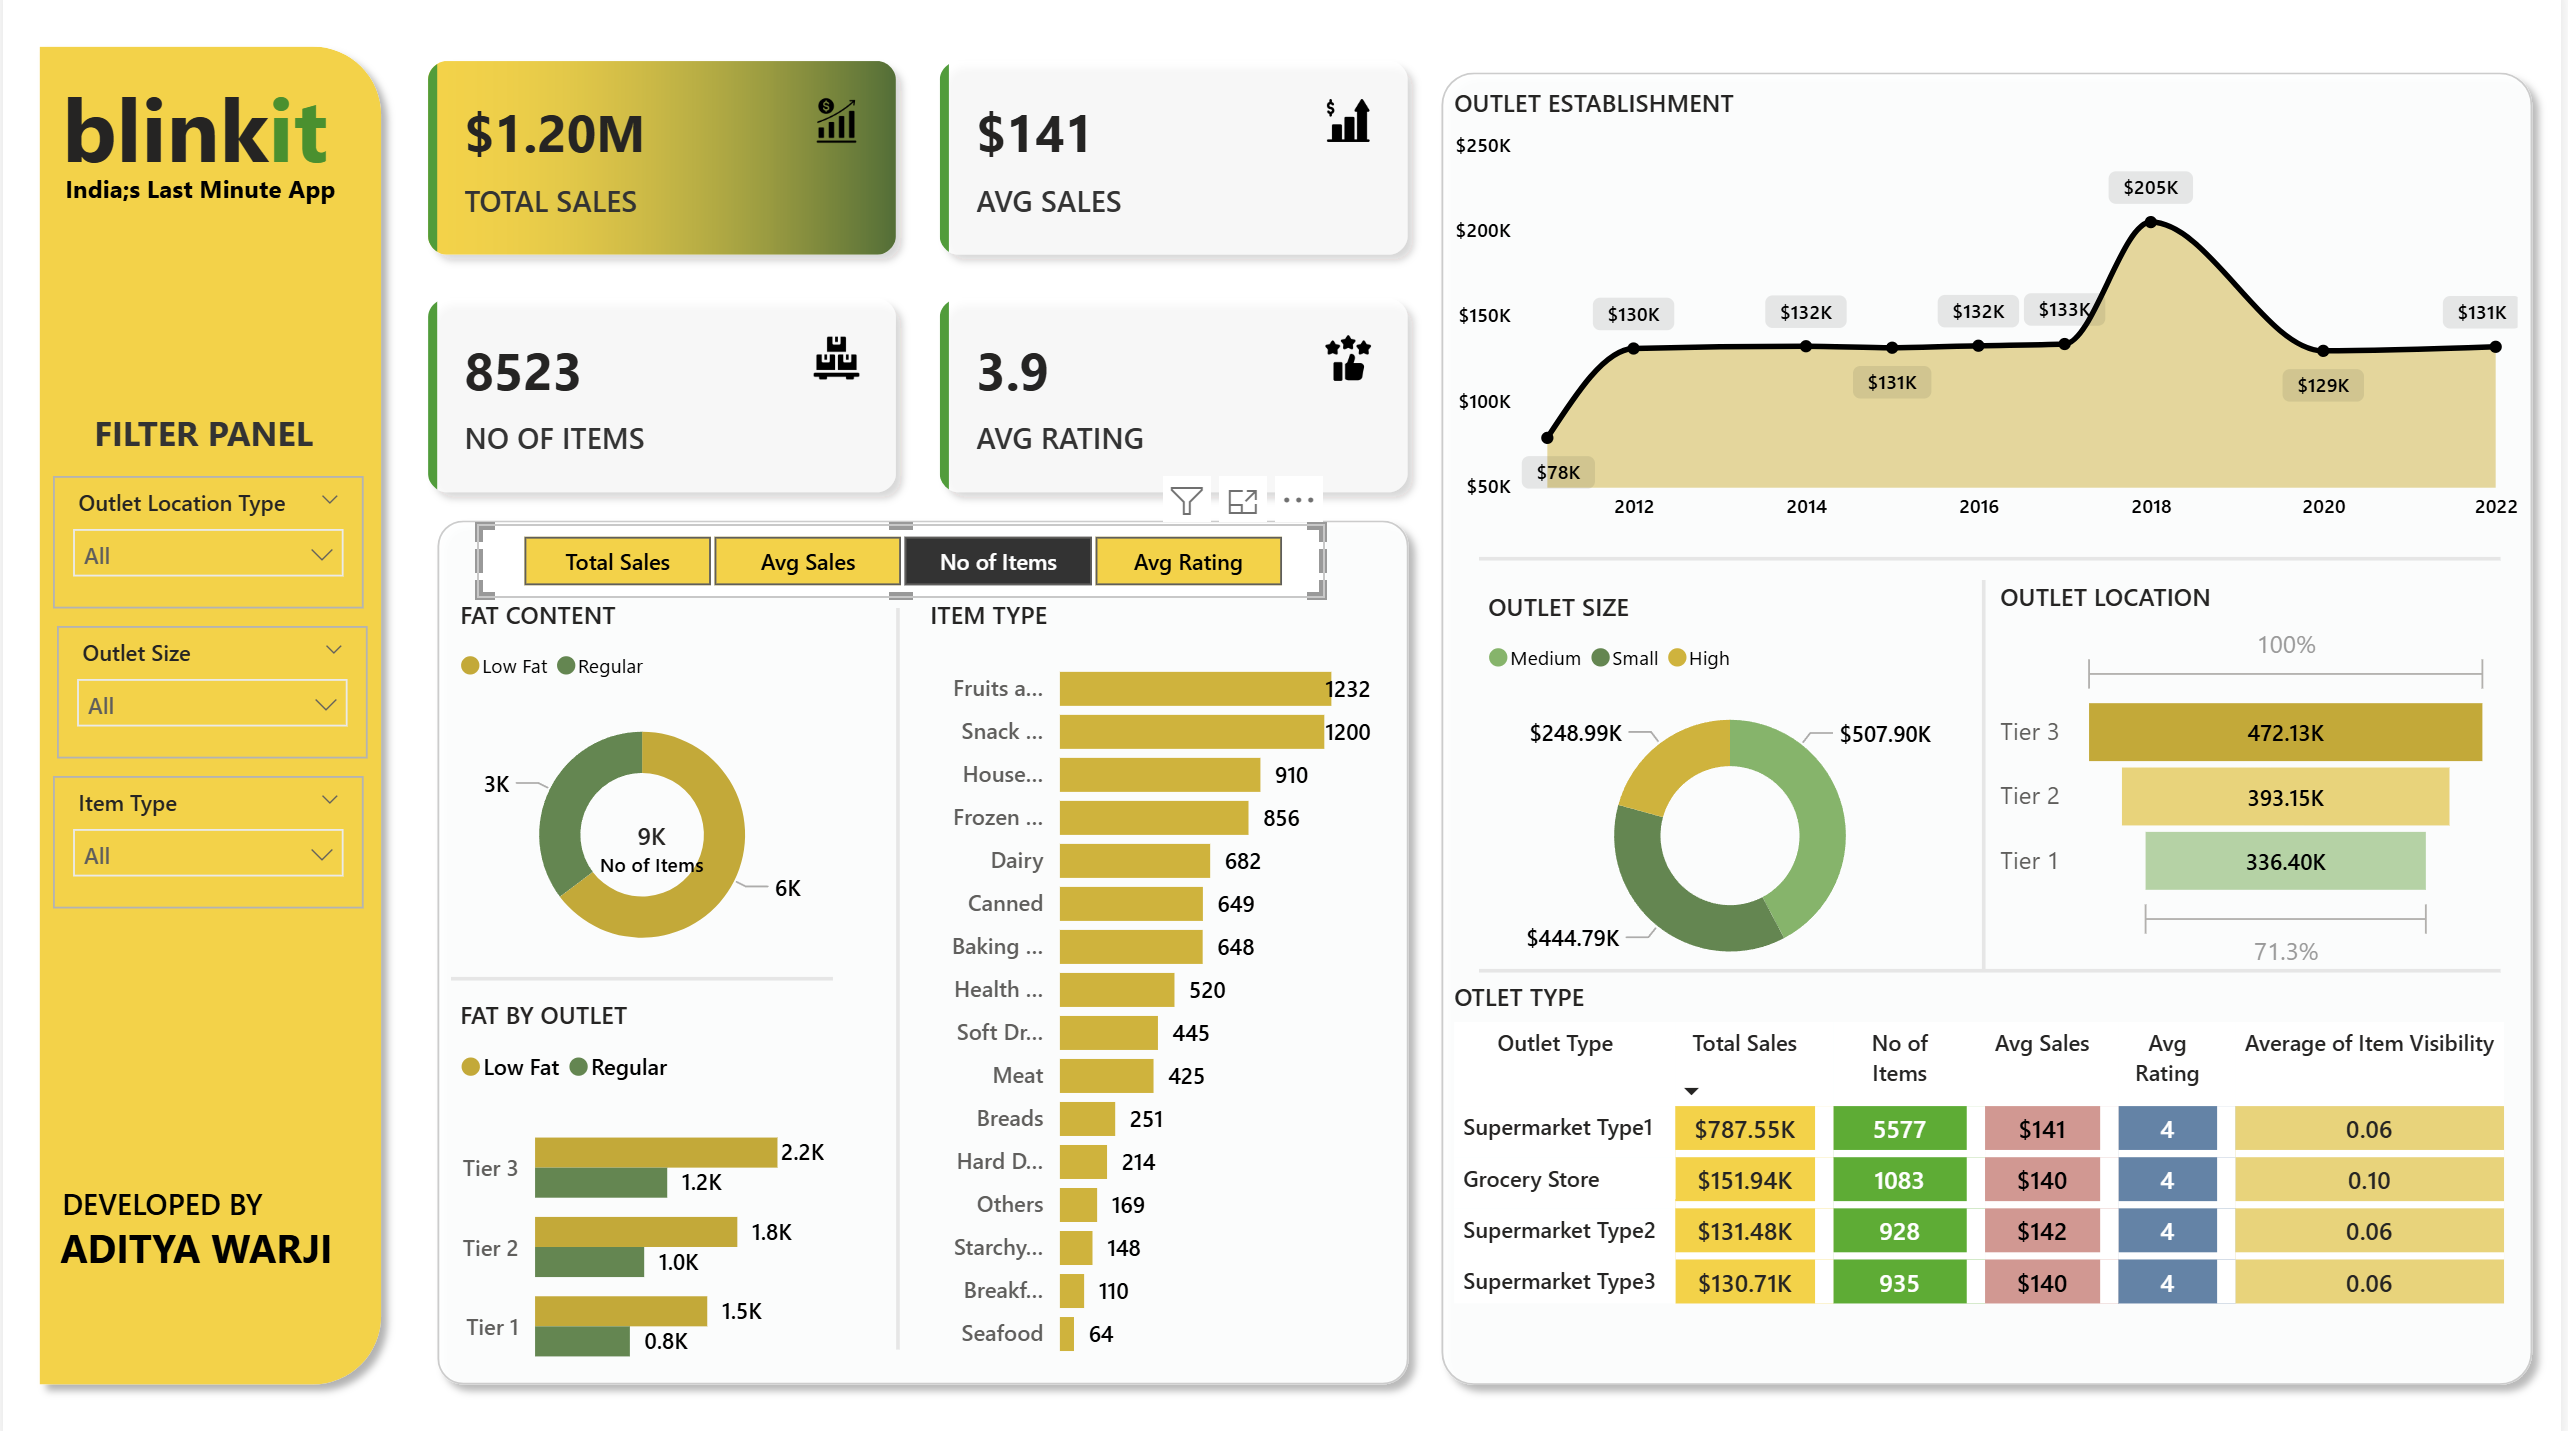

Layout of this report page (visuals, bound fields, positions):
{"tool":"powerbi","page":{"name":"Page 1","canvas":[1400,800],"ordinal":0},"visuals":[{"type":"shape","box":[11.2,25.1,205,750.2],"z":0},{"type":"textbox","box":[27.9,40.4,172.9,87.8],"z":1000},{"type":"textbox","box":[0,97.6,216.1,87.8],"z":2000},{"type":"cardVisual","fields":{"Data":["BlinkIT Grocery Data - BlinkIT Grocery Data.Total Sales","BlinkIT Grocery Data - BlinkIT Grocery Data.Avg Sales","BlinkIT Grocery Data - BlinkIT Grocery Data.No of Items","BlinkIT Grocery Data - BlinkIT Grocery Data.Avg Rating"]},"box":[216.1,25.1,570.3,270.5],"z":3000},{"type":"shape","box":[228.7,284.5,549.4,490.8],"z":4000},{"type":"donutChart","title":"FAT CONTENT","fields":{"Y":["BlinkIT Grocery Data - BlinkIT Grocery Data.Avg Rating"],"Category":["BlinkIT Grocery Data - BlinkIT Grocery Data.Item Fat Content"]},"box":[245.4,336.1,209.2,214.7],"z":5000},{"type":"slicer","fields":{"Values":["Metrics.Metrics"]},"box":[259.4,295.6,464.3,40.4],"z":6000},{"type":"cardVisual","fields":{"Data":["BlinkIT Grocery Data - BlinkIT Grocery Data.Avg Rating"]},"box":[306.8,436.5,97.6,72.5],"z":7000},{"type":"clusteredBarChart","title":"FAT BY OUTLET","fields":{"Y":["BlinkIT Grocery Data - BlinkIT Grocery Data.Avg Rating"],"Category":["BlinkIT Grocery Data - BlinkIT Grocery Data.Outlet Location Type"],"Series":["BlinkIT Grocery Data - BlinkIT Grocery Data.Item Fat Content"]},"box":[245.4,555,209.2,220.3],"z":8000},{"type":"shape","box":[245.4,529.9,209.2,29.3],"z":9000},{"type":"shape","box":[476.9,341.6,25.1,405.8],"z":10000},{"type":"barChart","title":"ITEM TYPE","fields":{"Y":["BlinkIT Grocery Data - BlinkIT Grocery Data.Avg Rating"],"Category":["BlinkIT Grocery Data - BlinkIT Grocery Data.Item Type"]},"box":[502,336.1,251,426.7],"z":11000},{"type":"shape","box":[778.1,39,614.9,736.3],"z":12000},{"type":"lineChart","title":"OUTLET ESTABLISHMENT","fields":{"Y":["BlinkIT Grocery Data - BlinkIT Grocery Data.Total Sales"],"Category":["BlinkIT Grocery Data - BlinkIT Grocery Data.Outlet Establishment Year"]},"box":[789.2,55.8,591.9,246.8],"z":13000},{"type":"donutChart","title":"OUTLET SIZE","fields":{"Y":["BlinkIT Grocery Data - BlinkIT Grocery Data.Total Sales"],"Category":["BlinkIT Grocery Data - BlinkIT Grocery Data.Outlet Size"]},"box":[807.4,331.9,274.7,224.5],"z":14000},{"type":"shape","box":[807.4,299.8,559.2,29.3],"z":15000},{"type":"shape","box":[1069.5,326.3,29.3,214.7],"z":16000},{"type":"funnel","title":"OUTLET LOCATION","fields":{"Y":["Sum(BlinkIT Grocery Data - BlinkIT Grocery Data.Sales)"],"Category":["BlinkIT Grocery Data - BlinkIT Grocery Data.Outlet Location Type"]},"box":[1087.6,326.3,278.9,218.9],"z":17000},{"type":"shape","box":[807.4,525.7,559.2,29.3],"z":18000},{"type":"pivotTable","title":"OTLET TYPE","fields":{"Rows":["BlinkIT Grocery Data - BlinkIT Grocery Data.Outlet Type"],"Values":["BlinkIT Grocery Data - BlinkIT Grocery Data.Total Sales","BlinkIT Grocery Data - BlinkIT Grocery Data.No of Items","BlinkIT Grocery Data - BlinkIT Grocery Data.Avg Sales","BlinkIT Grocery Data - BlinkIT Grocery Data.Avg Rating","Avg(BlinkIT Grocery Data - BlinkIT Grocery Data.Item Visibility)"]},"box":[789.2,545.2,591.2,217.5],"z":19000},{"type":"slicer","fields":{"Values":["BlinkIT Grocery Data - BlinkIT Grocery Data.Outlet Location Type"]},"box":[27.9,269.1,170.1,72.5],"z":20000},{"type":"slicer","fields":{"Values":["BlinkIT Grocery Data - BlinkIT Grocery Data.Outlet Size"]},"box":[29.3,351.4,170.1,72.5],"z":21000},{"type":"slicer","fields":{"Values":["BlinkIT Grocery Data - BlinkIT Grocery Data.Item Type"]},"box":[27.9,433.7,170.1,72.5],"z":22000},{"type":"textbox","box":[44.6,227.3,159,41.8],"z":23000},{"type":"textbox","box":[27.9,651.2,159,41.8],"z":24000},{"type":"textbox","box":[26.5,672.1,168.7,41.8],"z":25000}]}

Visuals, with their boxes in screenshot pixels (x1, y1, x2, y2), scaled from the page's 1400x800 canvas onto the 2568x1431 screenshot:
shape: (left=21, top=45, right=397, bottom=1387)
textbox: (left=51, top=72, right=368, bottom=229)
textbox: (left=0, top=175, right=396, bottom=332)
cardVisual - BlinkIT Grocery Data - BlinkIT Grocery Data.Total Sales x BlinkIT Grocery Data - BlinkIT Grocery Data.Avg Sales: (left=396, top=45, right=1442, bottom=529)
shape: (left=420, top=509, right=1427, bottom=1387)
"FAT CONTENT" donutChart: (left=450, top=601, right=834, bottom=985)
slicer - Metrics.Metrics: (left=476, top=529, right=1327, bottom=601)
cardVisual - BlinkIT Grocery Data - BlinkIT Grocery Data.Avg Rating: (left=563, top=781, right=742, bottom=910)
"FAT BY OUTLET" clusteredBarChart: (left=450, top=993, right=834, bottom=1387)
shape: (left=450, top=948, right=834, bottom=1000)
shape: (left=875, top=611, right=921, bottom=1337)
"ITEM TYPE" barChart: (left=921, top=601, right=1381, bottom=1364)
shape: (left=1427, top=70, right=2555, bottom=1387)
"OUTLET ESTABLISHMENT" lineChart: (left=1448, top=100, right=2533, bottom=541)
"OUTLET SIZE" donutChart: (left=1481, top=594, right=1985, bottom=995)
shape: (left=1481, top=536, right=2507, bottom=589)
shape: (left=1962, top=584, right=2016, bottom=968)
"OUTLET LOCATION" funnel: (left=1995, top=584, right=2507, bottom=975)
shape: (left=1481, top=940, right=2507, bottom=993)
"OTLET TYPE" pivotTable: (left=1448, top=975, right=2532, bottom=1364)
slicer - BlinkIT Grocery Data - BlinkIT Grocery Data.Outlet Location Type: (left=51, top=481, right=363, bottom=611)
slicer - BlinkIT Grocery Data - BlinkIT Grocery Data.Outlet Size: (left=54, top=629, right=366, bottom=758)
slicer - BlinkIT Grocery Data - BlinkIT Grocery Data.Item Type: (left=51, top=776, right=363, bottom=905)
textbox: (left=82, top=407, right=373, bottom=481)
textbox: (left=51, top=1165, right=343, bottom=1240)
textbox: (left=49, top=1202, right=358, bottom=1277)
